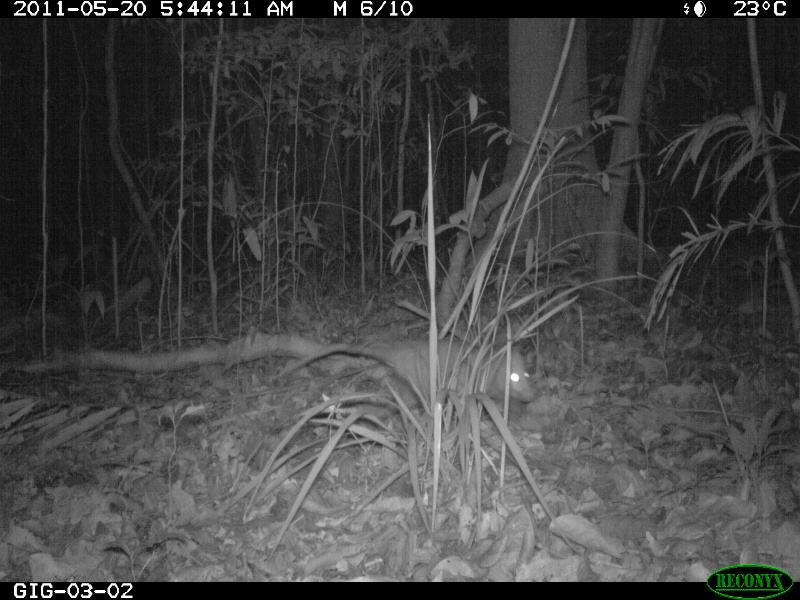opossum: (275, 341, 543, 411)
